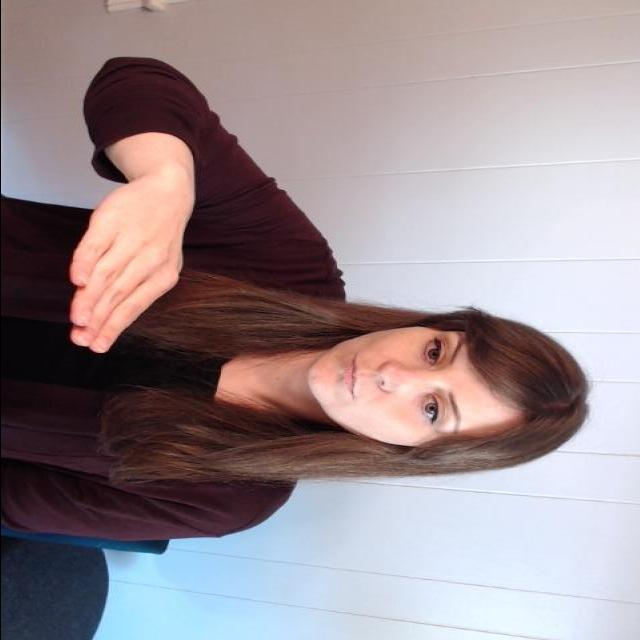Paper: (59, 164, 194, 367)
